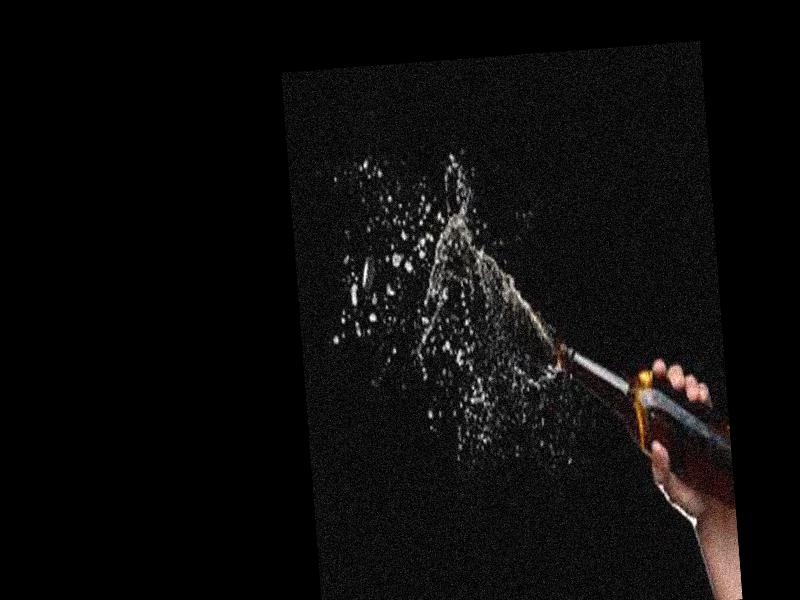Beer: (557, 326, 734, 525)
